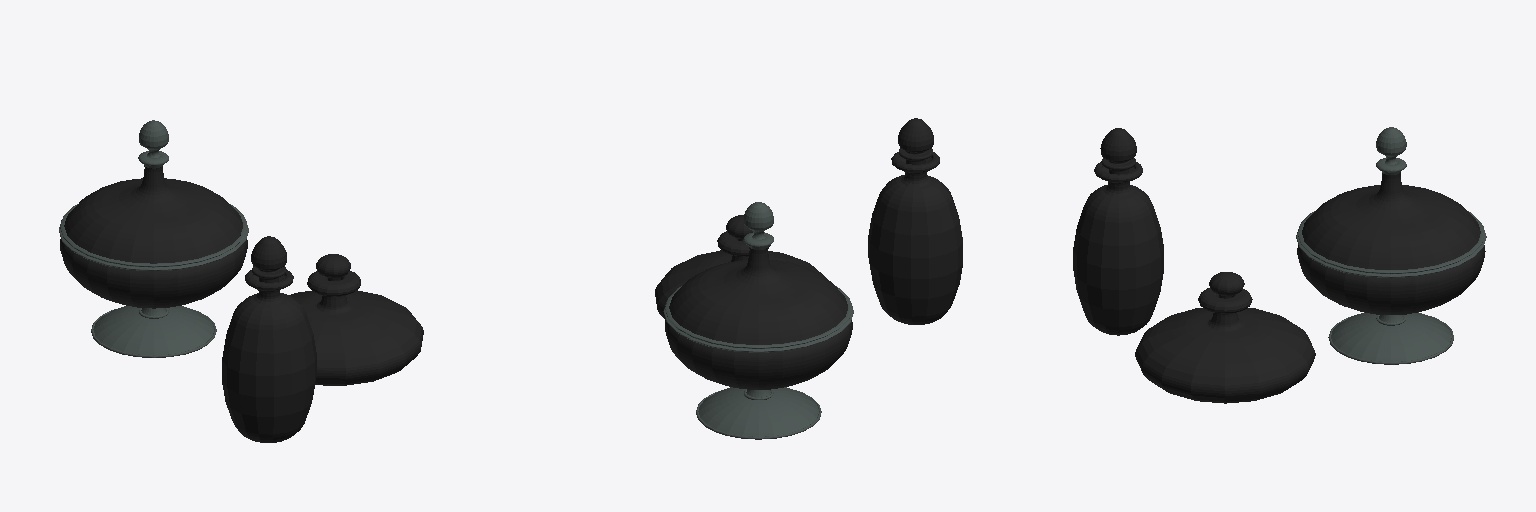
Rendered from bottles1.obj.
The picture shows the model from 3 angles: view 1: azimuth 30°, elevation 25°; view 2: azimuth 150°, elevation 25°; view 3: azimuth 270°, elevation 25°; orthographic projection.
Parts seen in each view (by area): view 1: bottle01, bottleup03, bottle02, bottlelow0, base03, bottlemid0, stopper01, stopper03, stopper02; view 2: bottle01, bottleup03, bottlelow0, base03, bottle02, bottlemid0, stopper01, stopper03; view 3: bottle02, bottleup03, bottle01, bottlelow0, base03, bottlemid0, stopper01, stopper03, stopper02.
Part boxes in pixels (left/top/right/bottom): bottle01: left=222, top=270, right=316, bottom=442; bottleup03: left=64, top=165, right=242, bottom=263; bottle02: left=289, top=271, right=423, bottom=385; bottlelow0: left=60, top=235, right=247, bottom=308; base03: left=91, top=306, right=216, bottom=357; bottlemid0: left=59, top=204, right=248, bottom=270; stopper01: left=251, top=236, right=286, bottom=282; stopper03: left=138, top=120, right=168, bottom=168; stopper02: left=316, top=254, right=350, bottom=280; bottle01: left=868, top=152, right=962, bottom=324; bottleup03: left=669, top=247, right=847, bottom=344; bottlelow0: left=665, top=317, right=852, bottom=389; base03: left=696, top=387, right=821, bottom=439; bottle02: left=655, top=231, right=825, bottom=319; bottlemid0: left=663, top=286, right=853, bottom=352; stopper01: left=898, top=118, right=933, bottom=164; stopper03: left=743, top=202, right=773, bottom=249; bottle02: left=1135, top=288, right=1315, bottom=403; bottleup03: left=1302, top=172, right=1480, bottom=269; bottle01: left=1073, top=162, right=1163, bottom=335; bottlelow0: left=1297, top=245, right=1485, bottom=314; base03: left=1328, top=312, right=1453, bottom=364; bottlemid0: left=1296, top=211, right=1486, bottom=277; stopper01: left=1100, top=128, right=1136, bottom=174; stopper03: left=1376, top=127, right=1406, bottom=174; stopper02: left=1209, top=272, right=1244, bottom=298.
Bounding box in the file's own units: 84.19 × 65.55 × 117.